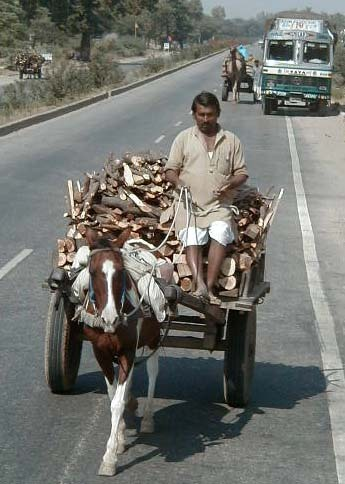horse: (77, 220, 176, 482)
